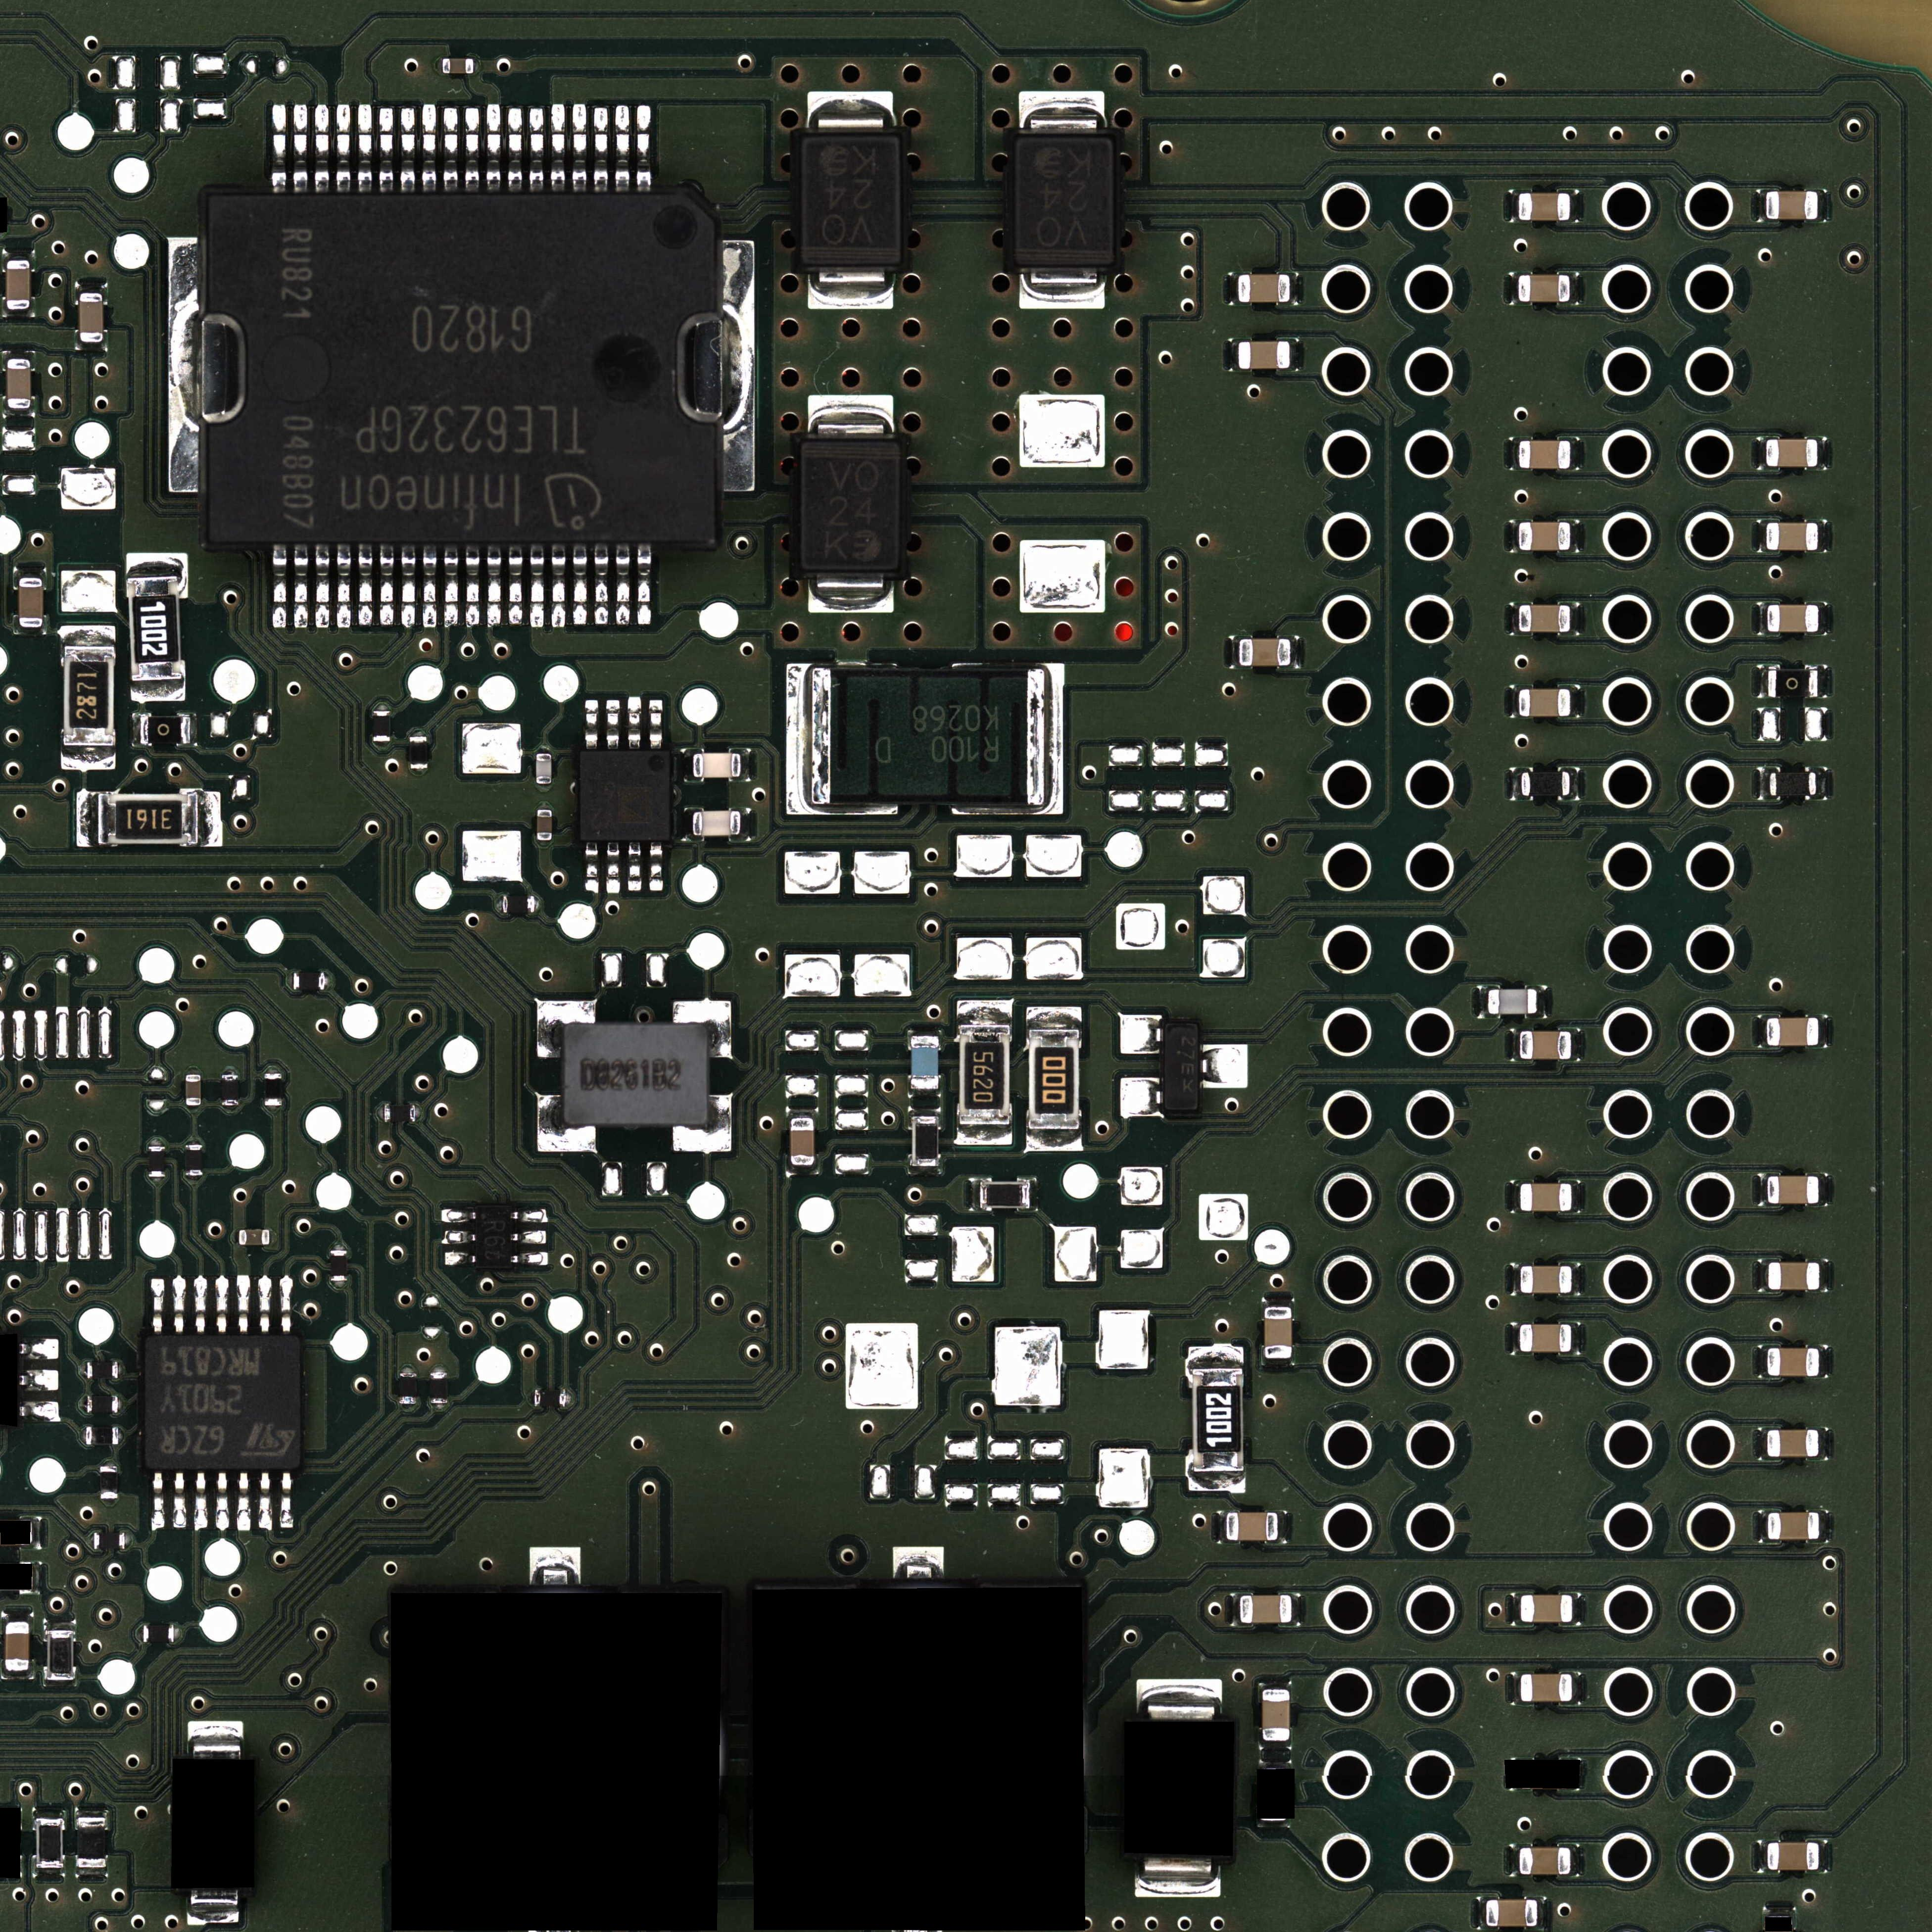Package: (207, 195, 715, 541), (812, 667, 1046, 805), (143, 1336, 301, 1470), (564, 1023, 708, 1123), (800, 441, 901, 570), (801, 136, 902, 265), (1016, 136, 1115, 265), (579, 750, 671, 840), (129, 577, 182, 679), (957, 1024, 1010, 1125), (1191, 1369, 1244, 1470), (62, 646, 115, 745), (97, 793, 198, 844), (1028, 1030, 1079, 1129), (1164, 1023, 1198, 1111), (476, 1207, 511, 1267), (1520, 1323, 1571, 1353), (911, 1037, 939, 1090), (1766, 522, 1819, 550), (1238, 639, 1292, 667), (1518, 441, 1571, 469), (1518, 605, 1571, 633), (1518, 522, 1571, 550), (1518, 688, 1571, 717), (1766, 1017, 1819, 1046), (1520, 1594, 1573, 1622), (1520, 1674, 1573, 1702), (140, 717, 191, 745), (78, 1817, 106, 1868), (1238, 274, 1290, 303), (1238, 341, 1290, 370), (1766, 439, 1817, 467), (1766, 191, 1817, 219), (1518, 274, 1569, 303), (1518, 193, 1569, 221), (1767, 1842, 1819, 1870), (1767, 1177, 1819, 1205), (1767, 1430, 1819, 1458), (1520, 1265, 1571, 1293), (1520, 1184, 1571, 1212), (1767, 1348, 1819, 1376), (1261, 1690, 1290, 1741), (1520, 1847, 1571, 1875), (1520, 1031, 1571, 1060), (1226, 1513, 1277, 1541), (1240, 1596, 1292, 1624), (1767, 1263, 1821, 1290), (1767, 669, 1817, 697), (1767, 605, 1819, 632), (1767, 1513, 1819, 1539), (1265, 1307, 1292, 1359), (1486, 1900, 1537, 1927), (911, 1116, 938, 1166), (980, 1182, 1030, 1208), (7, 359, 32, 409), (18, 579, 42, 628), (5, 260, 30, 310), (37, 1819, 62, 1868), (48, 1631, 73, 1681), (1488, 989, 1537, 1014), (694, 754, 741, 778), (692, 810, 740, 835), (5, 1622, 30, 1670), (1522, 771, 1569, 796), (1769, 771, 1817, 796), (80, 294, 103, 341), (791, 1118, 814, 1166), (409, 736, 428, 770), (85, 1426, 119, 1445), (294, 971, 326, 991), (502, 895, 534, 913), (264, 1074, 281, 1106), (384, 1104, 416, 1122), (400, 1373, 418, 1405), (94, 1532, 126, 1550), (221, 1074, 239, 1106), (87, 1396, 119, 1414), (373, 711, 391, 741), (430, 1373, 448, 1403), (143, 1624, 173, 1642), (442, 58, 474, 74), (534, 1391, 566, 1407), (101, 1467, 117, 1499), (87, 1362, 119, 1378), (536, 810, 552, 840), (536, 754, 552, 784), (186, 1145, 202, 1175), (186, 1076, 202, 1106), (239, 1230, 269, 1246), (149, 1146, 165, 1177), (331, 1251, 347, 1281)
Solder: (722, 241, 755, 494), (168, 237, 200, 494), (786, 665, 812, 814), (809, 395, 893, 441), (807, 92, 893, 136), (1019, 265, 1106, 310), (809, 265, 893, 310), (1019, 92, 1104, 136), (809, 571, 893, 614), (1136, 1677, 1221, 1718), (538, 1000, 596, 1058), (672, 1095, 731, 1152), (672, 1001, 731, 1058), (538, 1095, 596, 1152), (1136, 1858, 1221, 1897), (1044, 663, 1063, 812), (186, 1720, 244, 1757), (1200, 1044, 1247, 1088), (529, 1548, 580, 1585), (892, 1545, 945, 1580), (1120, 1077, 1164, 1116), (1120, 1016, 1164, 1054), (186, 1895, 241, 1925), (126, 552, 188, 577), (357, 103, 373, 193), (271, 104, 287, 193), (336, 104, 352, 193), (487, 103, 502, 191), (614, 104, 630, 193), (421, 104, 437, 191), (550, 104, 566, 191), (571, 104, 587, 191), (957, 1000, 1012, 1024), (400, 108, 416, 193), (379, 106, 395, 191), (442, 106, 458, 191), (315, 543, 331, 628), (529, 106, 545, 191), (593, 106, 609, 191), (529, 543, 545, 628), (550, 543, 566, 628), (465, 545, 481, 628), (400, 545, 416, 628), (336, 545, 352, 628), (379, 543, 395, 626), (487, 545, 502, 628), (508, 108, 524, 191), (571, 543, 587, 626), (198, 791, 221, 847), (60, 747, 117, 770), (1026, 1007, 1083, 1030), (508, 545, 524, 626), (593, 543, 609, 625), (315, 104, 329, 193), (1187, 1472, 1246, 1493), (294, 104, 308, 191), (272, 543, 287, 630), (637, 104, 651, 191), (465, 106, 479, 191), (76, 791, 97, 847), (294, 543, 308, 628), (955, 1125, 1012, 1146), (1187, 1346, 1244, 1368), (1026, 1131, 1083, 1152), (444, 545, 458, 628), (423, 545, 437, 628), (359, 543, 373, 626), (616, 543, 630, 626), (131, 681, 186, 702), (637, 543, 651, 625), (60, 626, 117, 646), (19, 1338, 58, 1361), (19, 1369, 58, 1392), (19, 1401, 60, 1422), (258, 1274, 272, 1334), (237, 1472, 251, 1532), (280, 1276, 294, 1334), (258, 1472, 272, 1530), (216, 1472, 230, 1530), (150, 1472, 165, 1530), (172, 1276, 186, 1332), (280, 1472, 294, 1529), (150, 1277, 165, 1332), (237, 1274, 249, 1334), (584, 699, 598, 750), (586, 842, 600, 893), (607, 842, 621, 893), (628, 697, 642, 748), (195, 1274, 207, 1332), (216, 1276, 228, 1334), (195, 1472, 207, 1530), (173, 1472, 186, 1529), (649, 699, 663, 748), (649, 842, 663, 892), (605, 699, 619, 748), (628, 842, 642, 892), (441, 1208, 476, 1223), (513, 1208, 547, 1223), (513, 1230, 547, 1244), (511, 1253, 548, 1265), (442, 1230, 474, 1244), (444, 1253, 476, 1265), (2, 249, 35, 260), (683, 807, 694, 840), (970, 1178, 980, 1212), (1277, 1511, 1288, 1545), (1511, 768, 1522, 801), (1509, 1844, 1520, 1877), (786, 1108, 817, 1118), (1757, 1840, 1767, 1872), (32, 1516, 42, 1548), (74, 283, 108, 292), (2, 350, 35, 359), (131, 713, 140, 747), (74, 1808, 108, 1817), (32, 1808, 65, 1817), (683, 748, 692, 782), (908, 1166, 941, 1175), (786, 1166, 819, 1175), (1290, 338, 1299, 372), (1230, 338, 1238, 372), (1230, 635, 1238, 669), (1261, 1359, 1295, 1368), (1031, 1178, 1040, 1212), (1292, 1592, 1300, 1626), (1258, 1681, 1292, 1690), (1231, 1592, 1240, 1626), (1571, 437, 1580, 471), (1759, 665, 1767, 699), (1571, 685, 1580, 718), (1759, 602, 1767, 635), (1571, 602, 1580, 635), (1571, 1322, 1580, 1355), (1479, 985, 1488, 1019), (1537, 985, 1546, 1019), (1511, 1180, 1520, 1214), (1759, 1345, 1767, 1378), (1819, 1345, 1828, 1378), (1819, 1173, 1828, 1207), (1571, 1028, 1580, 1062), (1511, 1028, 1520, 1062), (1759, 1173, 1767, 1207), (1477, 1897, 1486, 1930), (1819, 1840, 1828, 1874), (1537, 1897, 1546, 1930), (1762, 1907, 1796, 1916), (76, 343, 108, 352), (4, 409, 35, 418), (14, 568, 46, 577), (76, 1868, 108, 1877), (2, 1612, 34, 1621), (44, 1621, 76, 1629), (2, 1670, 34, 1679), (34, 1868, 65, 1877), (741, 748, 750, 780), (741, 809, 750, 840), (1290, 272, 1299, 304), (1261, 1297, 1293, 1306), (1217, 1511, 1226, 1543), (1260, 1741, 1292, 1750), (1757, 437, 1766, 469), (1757, 189, 1766, 221), (1760, 768, 1769, 800), (1757, 520, 1766, 552), (1817, 768, 1826, 800), (1819, 603, 1828, 635), (1759, 1260, 1767, 1292), (1819, 1016, 1828, 1047), (1511, 1323, 1520, 1355), (1757, 1016, 1766, 1047), (1819, 1428, 1828, 1460), (1759, 1428, 1767, 1460), (1571, 1844, 1580, 1875), (34, 1562, 42, 1594), (4, 310, 34, 318), (909, 1108, 939, 1116), (908, 1090, 941, 1097), (1230, 272, 1237, 306), (1292, 635, 1299, 669), (1511, 437, 1518, 471), (1511, 189, 1518, 223), (1819, 437, 1826, 471), (1571, 189, 1578, 223), (1819, 189, 1826, 223), (1511, 685, 1518, 718), (1511, 520, 1518, 554), (1573, 1592, 1580, 1626), (1513, 1672, 1520, 1706), (1513, 1592, 1520, 1626), (1256, 1821, 1290, 1828), (14, 628, 46, 635), (191, 715, 198, 747), (44, 1681, 76, 1688), (1511, 272, 1518, 304), (1571, 272, 1578, 304), (1571, 768, 1578, 800), (1571, 520, 1578, 552), (1511, 603, 1518, 635), (1819, 520, 1826, 552), (1819, 665, 1826, 697), (1573, 1180, 1580, 1212), (1513, 1263, 1520, 1295), (1573, 1263, 1580, 1295), (1821, 1260, 1828, 1292), (1573, 1672, 1580, 1704), (1760, 1511, 1767, 1543), (1821, 1511, 1828, 1543), (1260, 1762, 1292, 1769), (908, 1030, 941, 1035), (285, 971, 294, 991), (430, 1364, 448, 1373), (85, 1532, 94, 1550), (134, 1626, 143, 1642), (495, 895, 502, 915), (264, 1106, 283, 1113), (99, 1499, 119, 1506), (534, 895, 541, 915), (372, 702, 391, 709), (409, 729, 426, 736), (80, 1396, 87, 1414), (119, 1396, 126, 1414), (78, 1428, 85, 1445), (416, 1104, 423, 1122), (430, 1403, 448, 1410), (400, 1366, 418, 1373), (119, 1362, 126, 1380), (147, 1139, 165, 1146), (377, 1104, 384, 1122), (186, 1138, 203, 1145), (221, 1106, 239, 1113), (221, 1069, 239, 1076), (373, 741, 391, 748), (435, 58, 442, 74), (326, 973, 333, 989), (119, 1428, 126, 1444), (80, 1362, 87, 1378), (126, 1532, 133, 1548), (175, 1626, 182, 1642), (536, 747, 552, 754), (566, 1391, 573, 1407), (331, 1244, 347, 1251), (331, 1281, 347, 1288), (474, 57, 479, 74), (410, 770, 428, 775), (264, 1067, 281, 1072), (186, 1175, 203, 1180), (101, 1460, 119, 1465), (400, 1405, 416, 1410), (149, 1177, 165, 1182), (186, 1106, 202, 1111), (186, 1069, 202, 1074), (269, 1230, 274, 1246), (536, 803, 552, 809), (536, 784, 552, 789), (536, 840, 552, 846), (529, 1391, 534, 1407), (234, 1230, 239, 1246)
